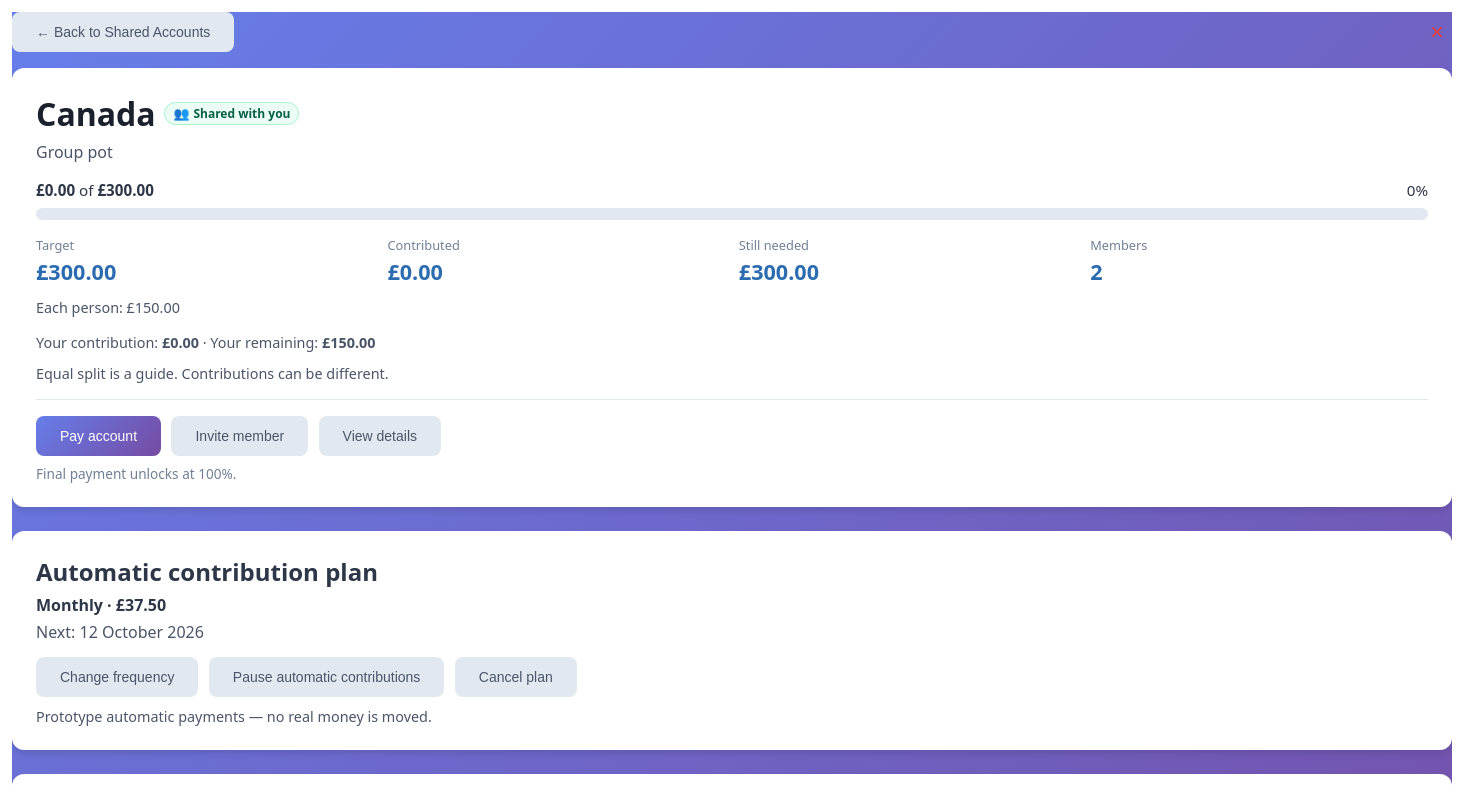
SharedAccountDetail contribution plan management › pauses an active plan and keeps Pay account available
The width and height of the screenshot is (1464, 795).
Click the button "Pause automatic contributions" at (327,677), box [209,657,444,697]
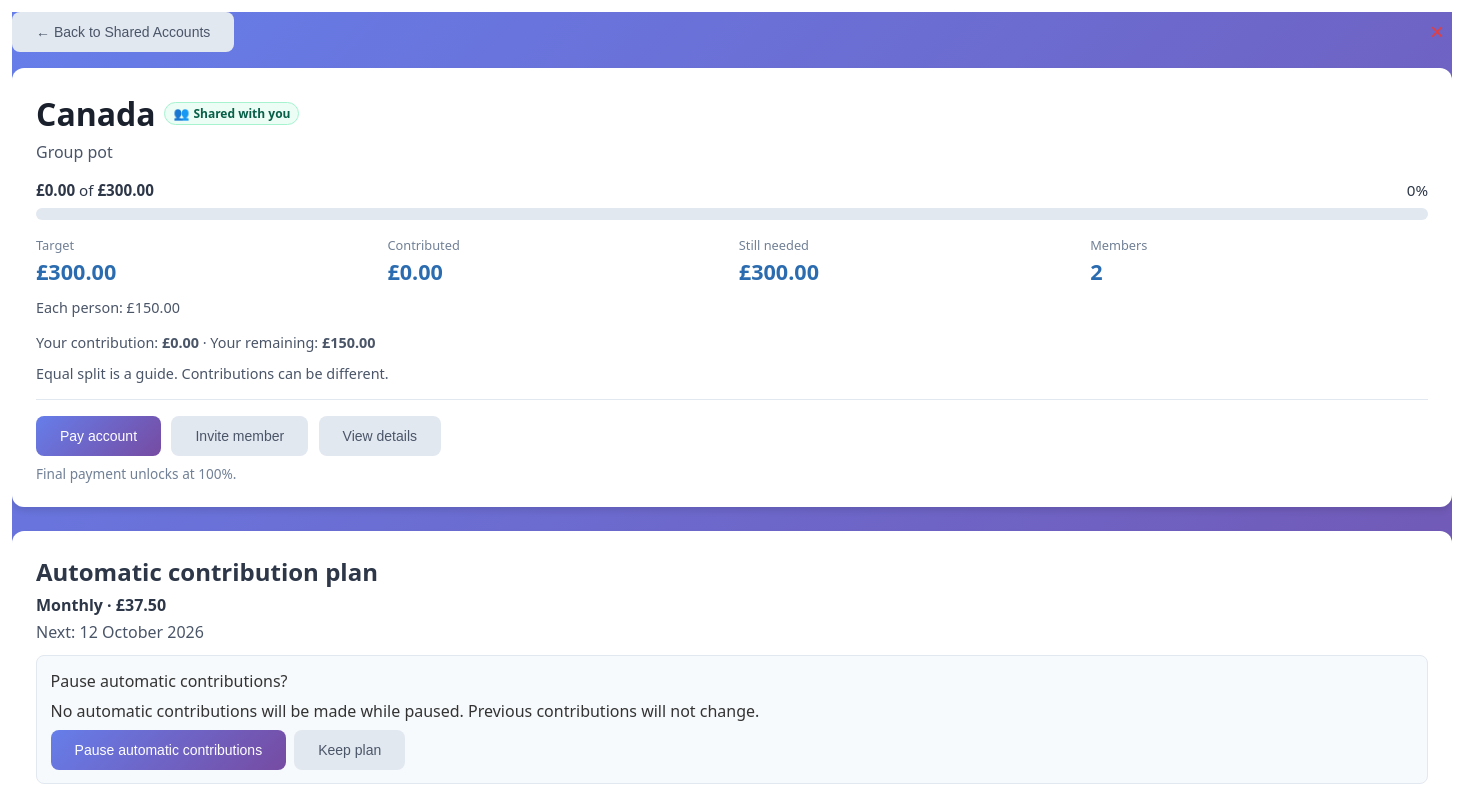
Click the button "Keep plan" at (350,750), box [294,730,405,770]
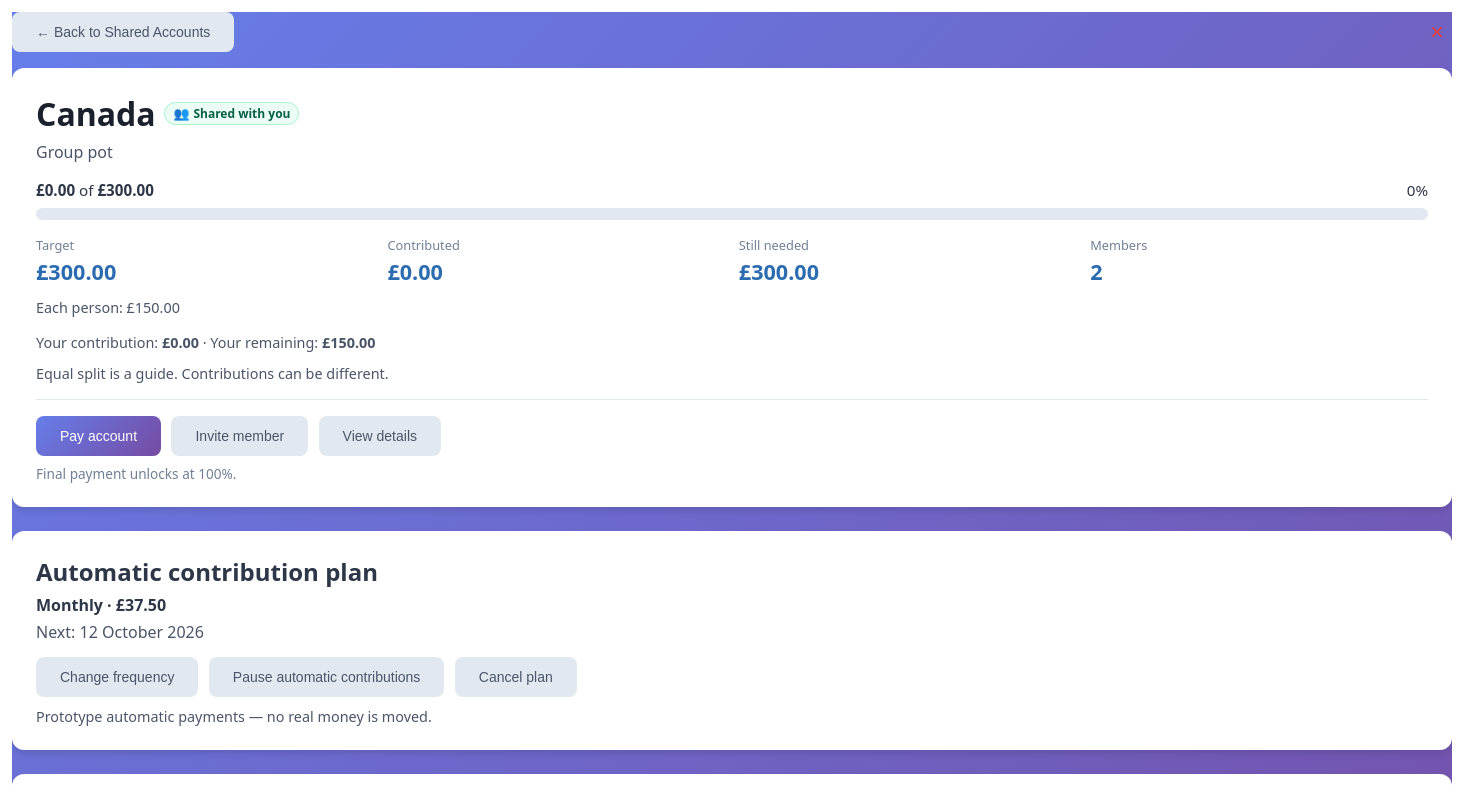
Click the button "Pause automatic contributions" at (327,677), box [209,657,444,697]
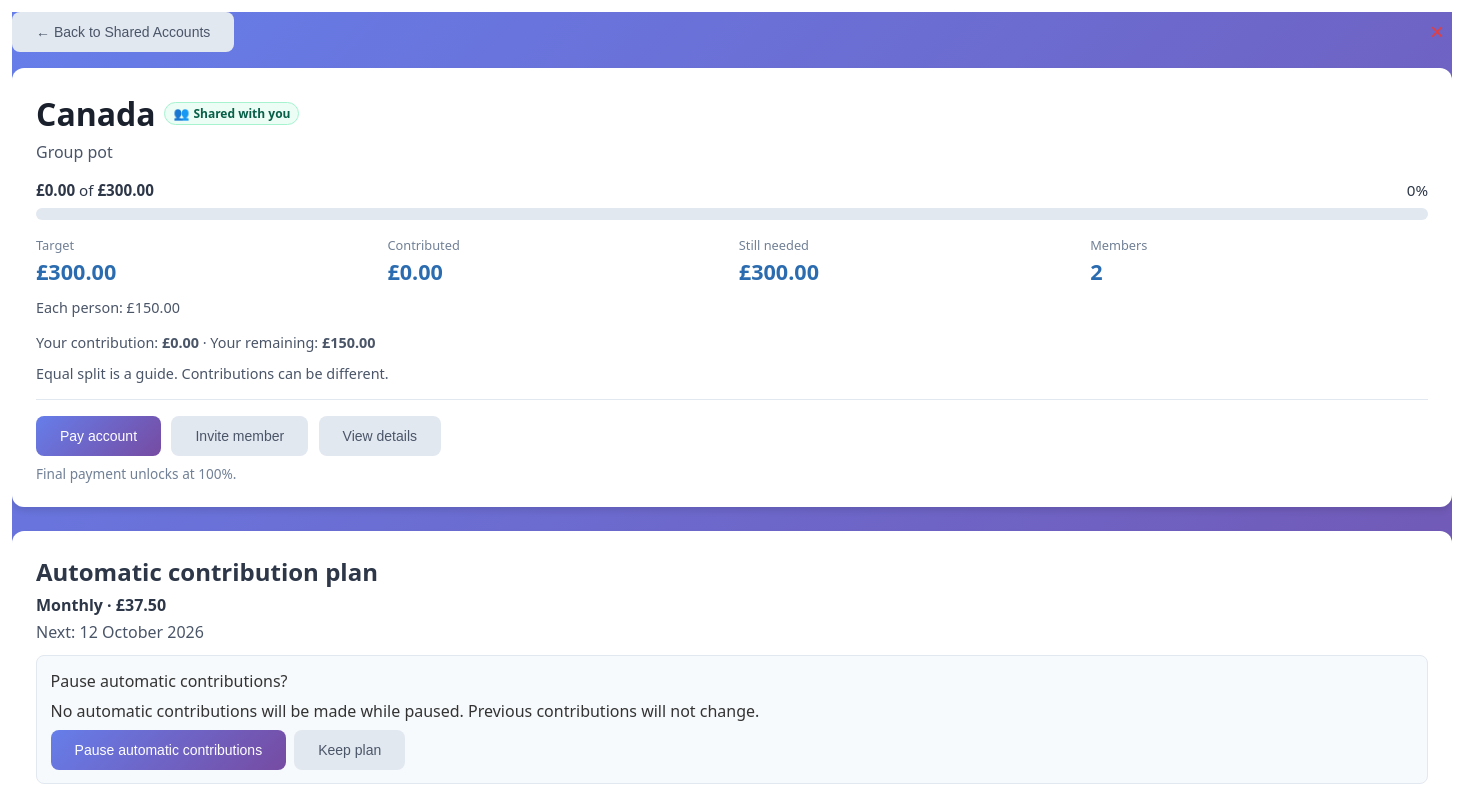
Click the button "Pause automatic contributions" at (168,750), box [51,730,286,770]
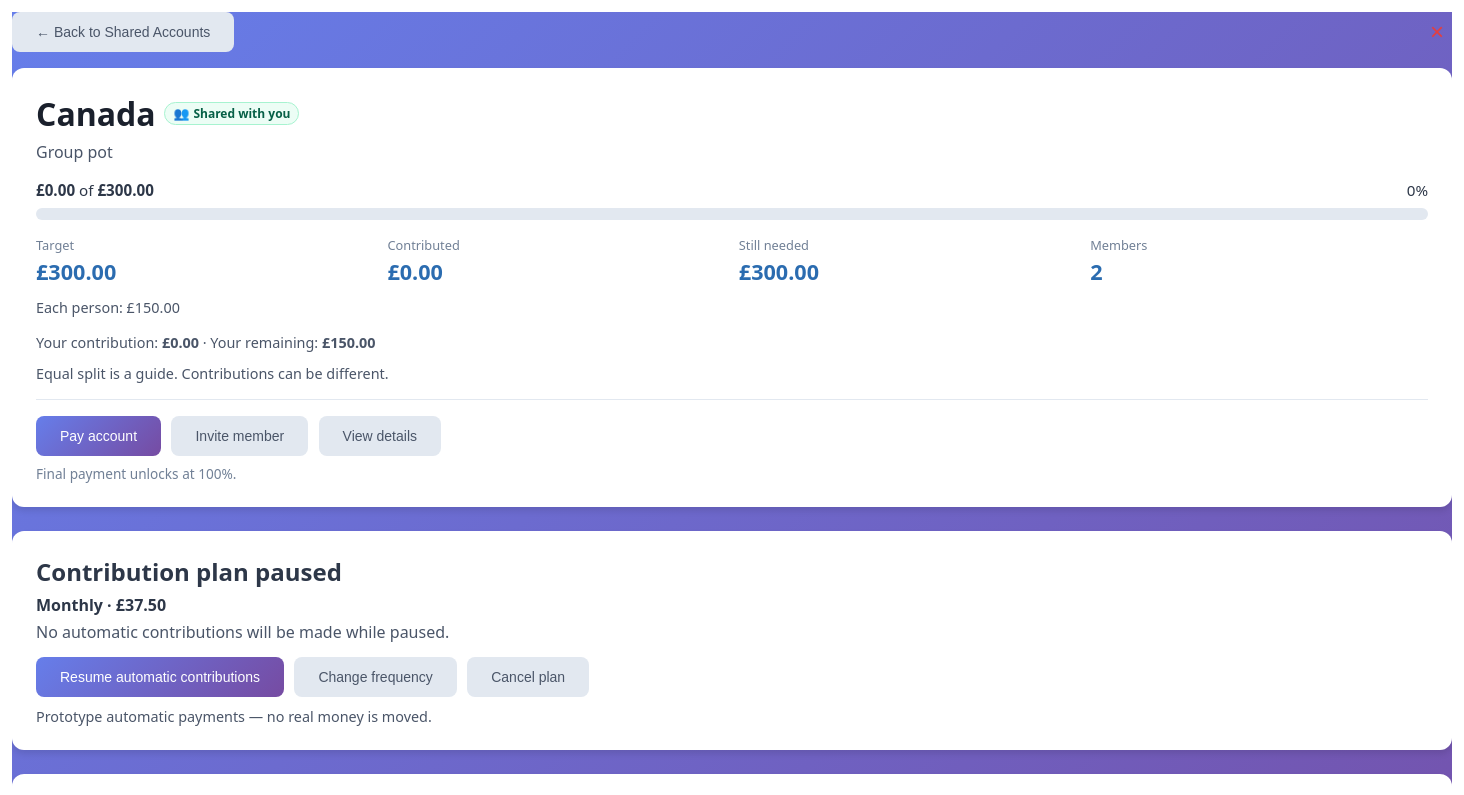
Check: the element with test id "member-contribution-plan-summary" shows "No automatic contributions will be made while paused.", box [36,621,449,643]
Check: the element with test id "member-contribution-plan-summary" shows "Contribution plan paused", box [36,555,342,588]
Check: the button "Resume automatic contributions" is shown, box [36,657,284,697]
